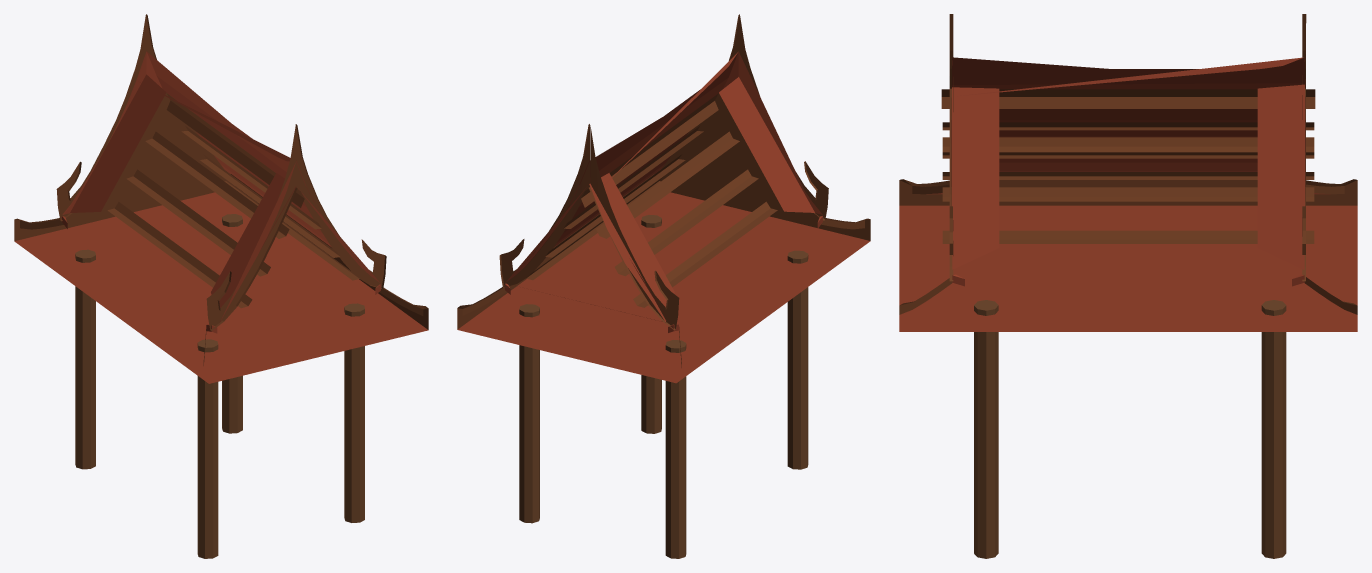
The model's file is thai_sala.glb.
3 renders of one model, left to right at view 1: azimuth 30°, elevation 25°; view 2: azimuth 150°, elevation 25°; view 3: azimuth 270°, elevation 25°, orthographic. The views are drawn at different scales.
Visible parts, largest first — view 1: thai_sala; view 2: thai_sala; view 3: thai_sala.
Boxes of the visible parts, box(x1,y1,x2,y2) form: thai_sala: box(14, 14, 428, 558); thai_sala: box(457, 14, 870, 558); thai_sala: box(899, 14, 1357, 558).
Size of the model in its own units: 3.68 by 6.77 by 5.65.
